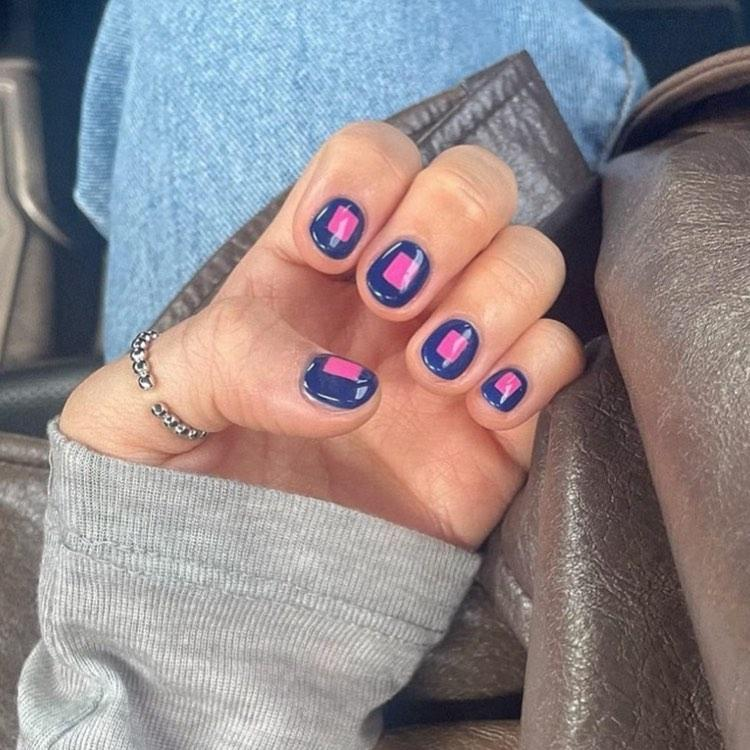nail: (299, 352, 379, 411), (365, 238, 430, 306), (419, 317, 479, 379), (308, 195, 364, 259), (479, 366, 527, 412)
